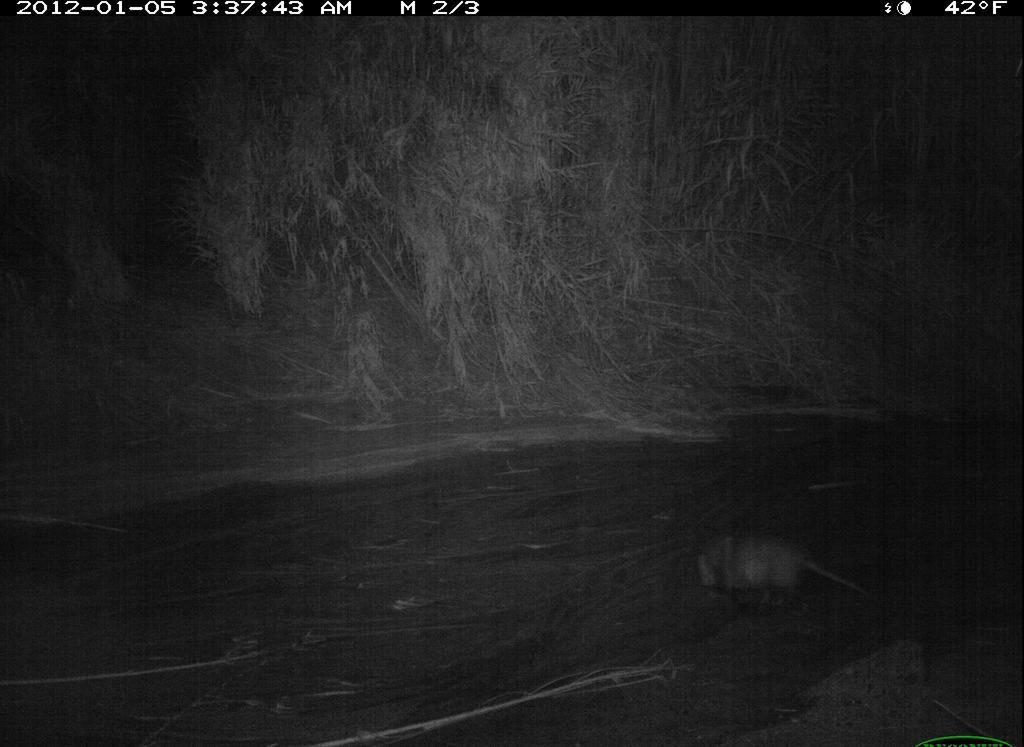opossum: (679, 513, 879, 621)
